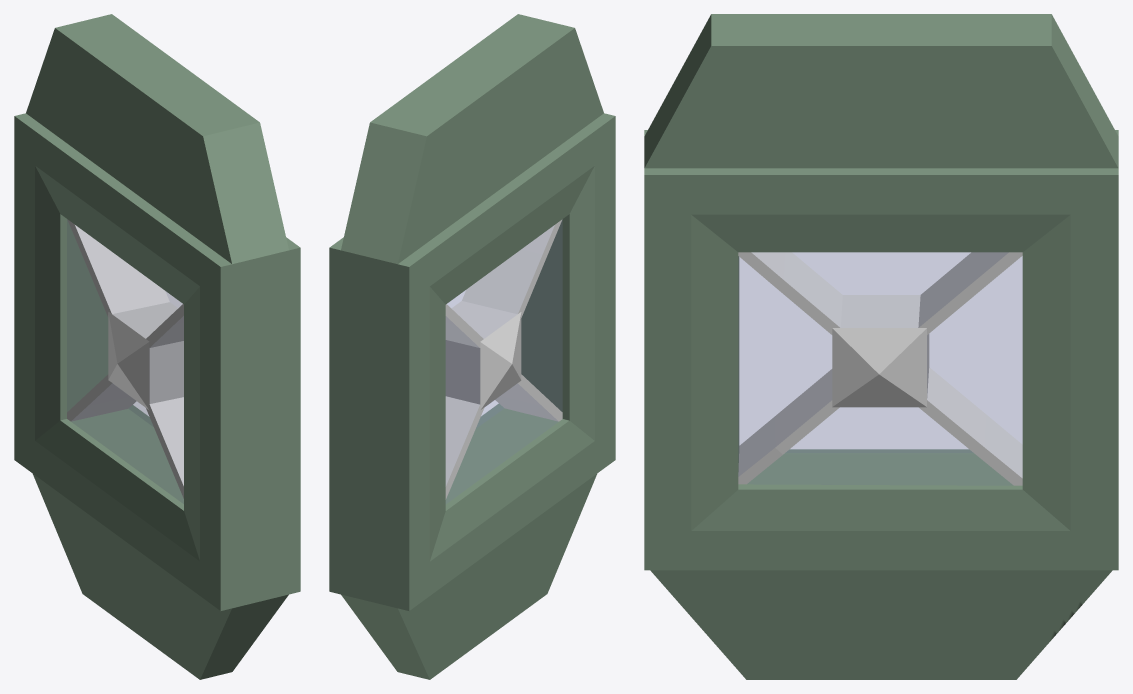
File: Dver.fbx
3 renders of one model, left to right at view 1: azimuth 30°, elevation 25°; view 2: azimuth 150°, elevation 25°; view 3: azimuth 270°, elevation 25°, orthographic. The views are drawn at different scales.
Visible parts, largest first — view 1: Door; view 2: Door; view 3: Door.
Part boxes in pixels (x1,y1,x2,y2): Door: (14, 14, 300, 679); Door: (329, 14, 615, 679); Door: (644, 14, 1118, 679).
Bounding box in the file's own units: 34.83 × 233 × 156.
